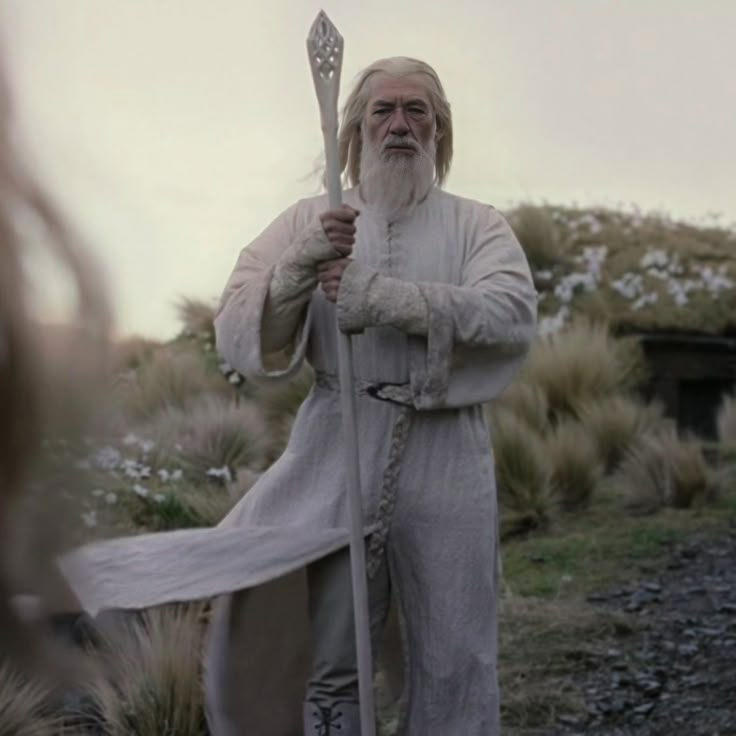gandalf gray: (197, 4, 537, 701)
